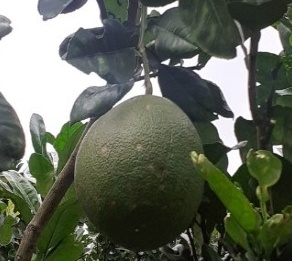Buoi: (71, 89, 209, 251)
